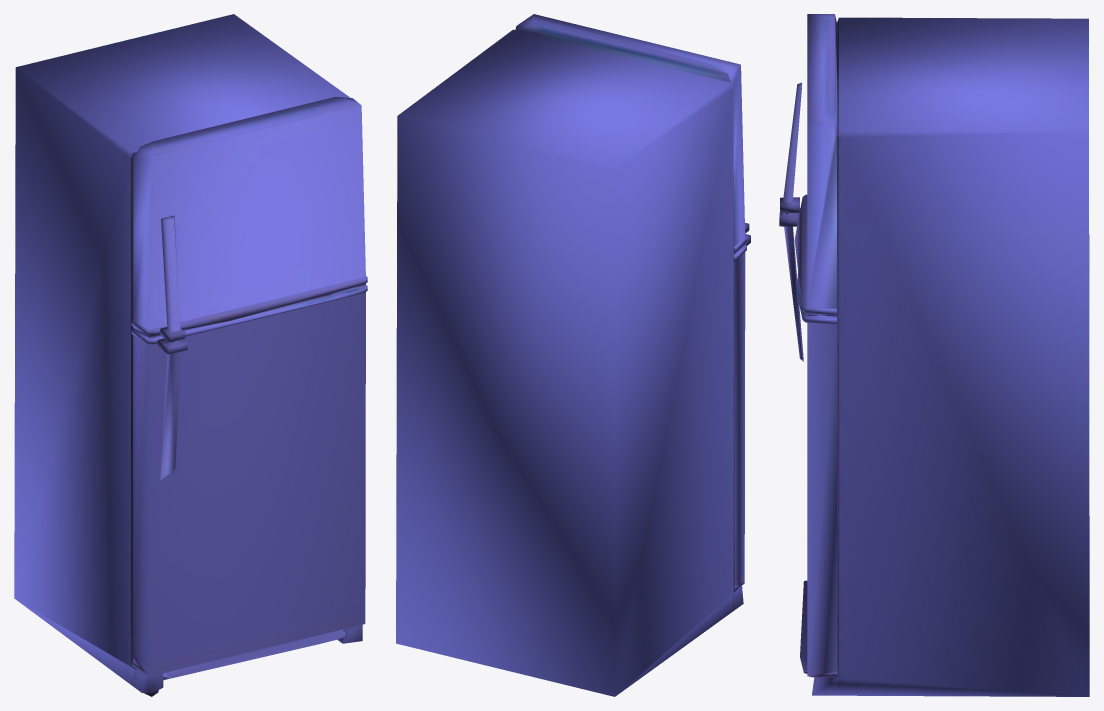
The model's file is model.progressive.glb.
The picture shows the model from 3 angles, left to right: view 1: azimuth 30°, elevation 25°; view 2: azimuth 150°, elevation 25°; view 3: azimuth 270°, elevation 25°; orthographic projection. The views are drawn at different scales.
Parts seen in each view (by area): view 1: material; view 2: material; view 3: material.
Boxes of the visible parts, x1,y1,x2,y2 form: material: (14,14,367,696); material: (396,14,750,696); material: (779,14,1089,696).
Bounding box in the file's own units: 0.8104 × 1.89 × 0.9158.
1 material, 1 textured.
